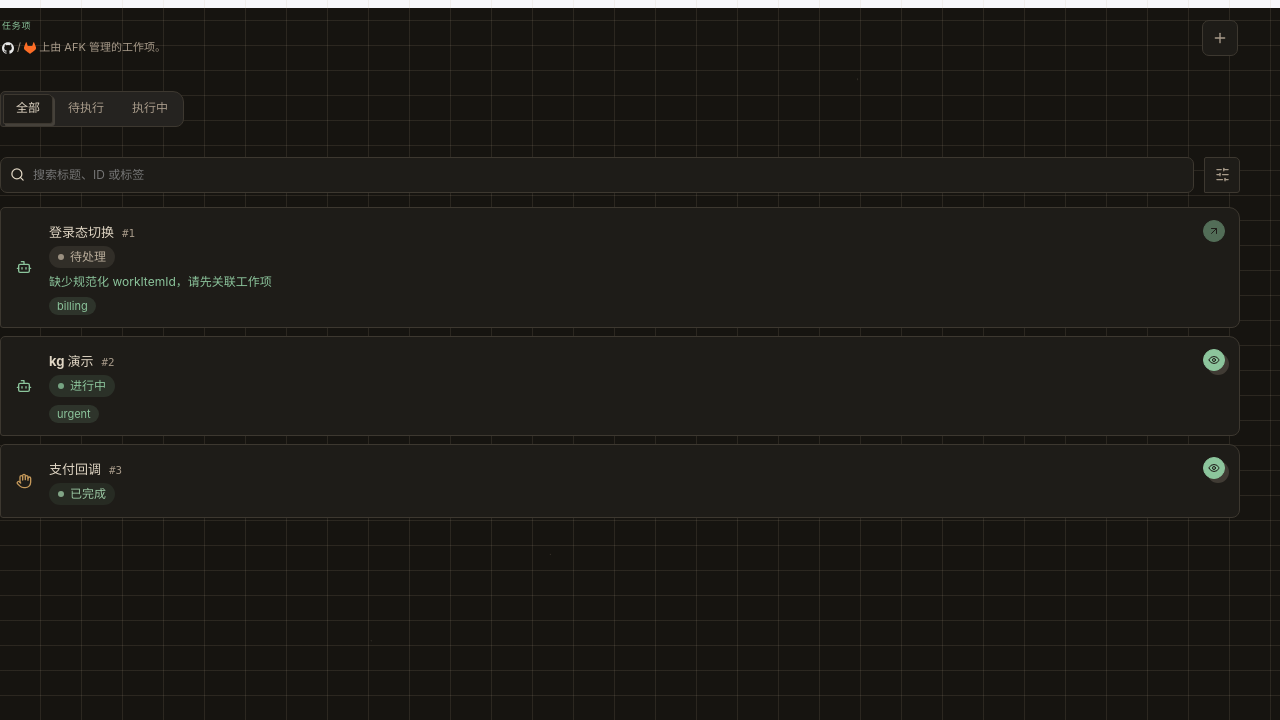
BacklogPage write operations › surfaces create errors inside the modal without closing it
Click the button named "新建 Backlog" at [1220, 38], box [1202,20,1238,56]
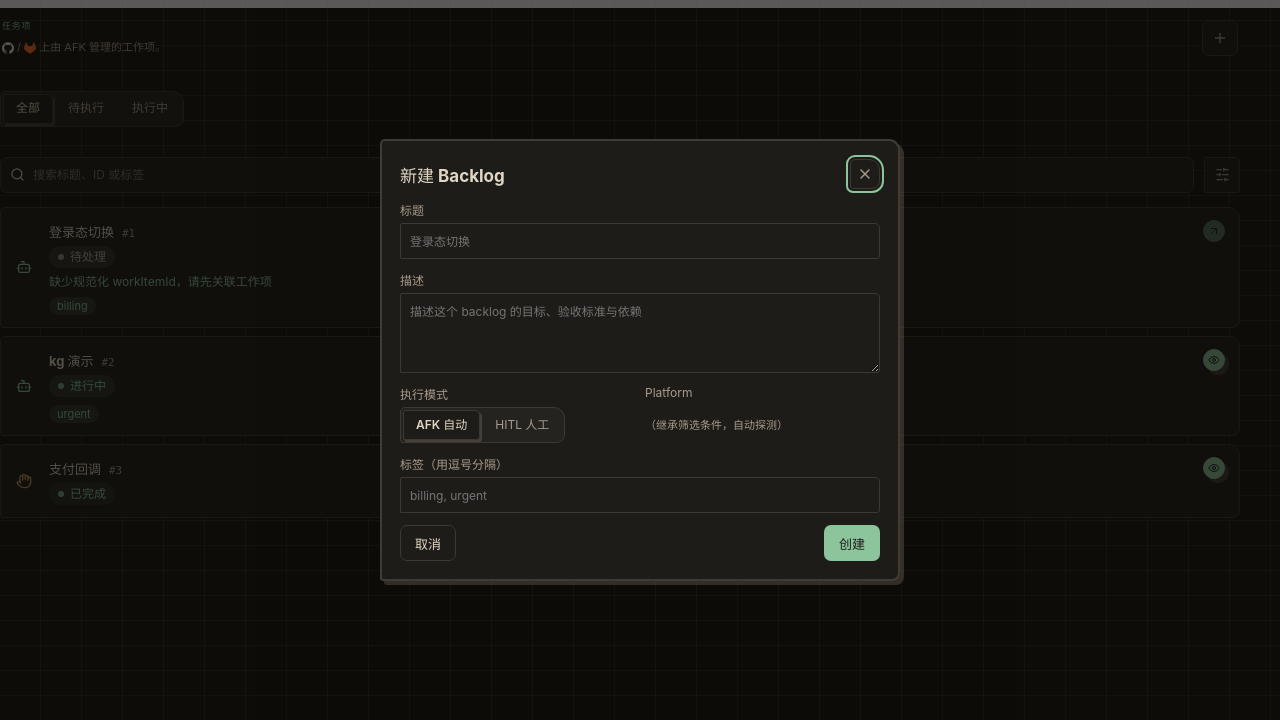
Type "boom" into the field labelled "标题" at [640, 241], box [400,223,880,259]
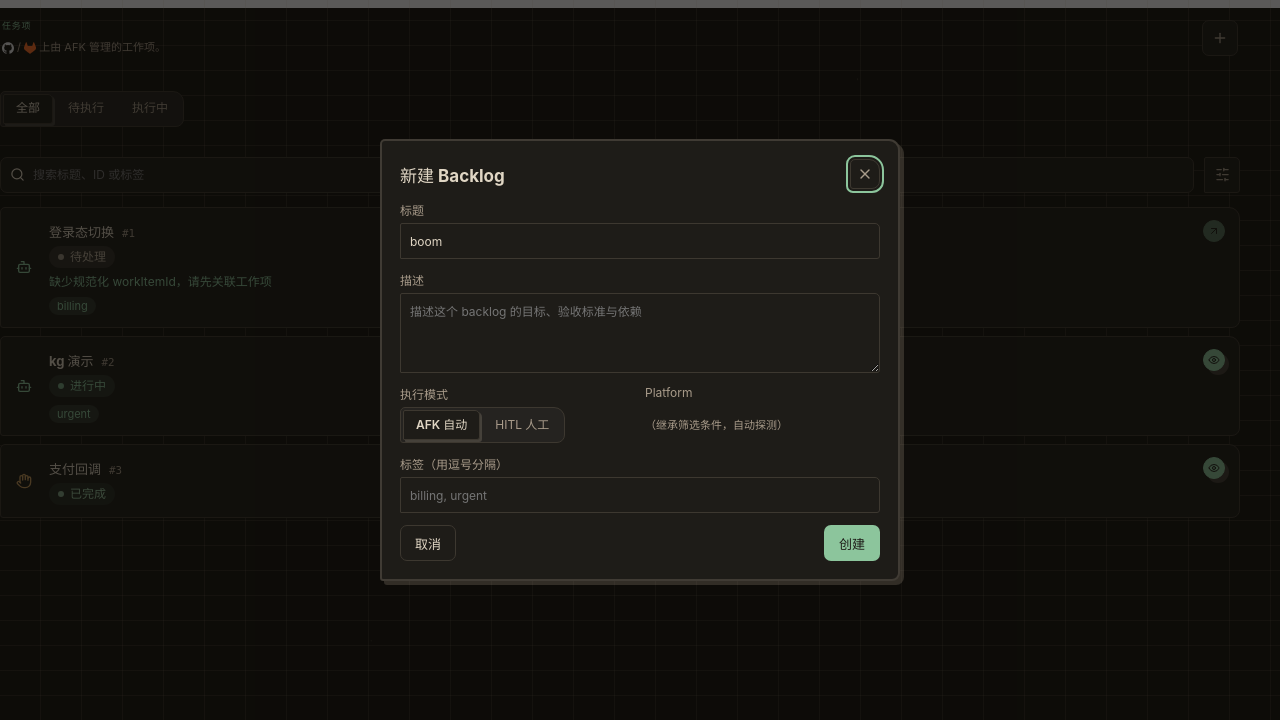
Type "fails" into the text box labelled "描述" at [640, 333], box [400,293,880,373]
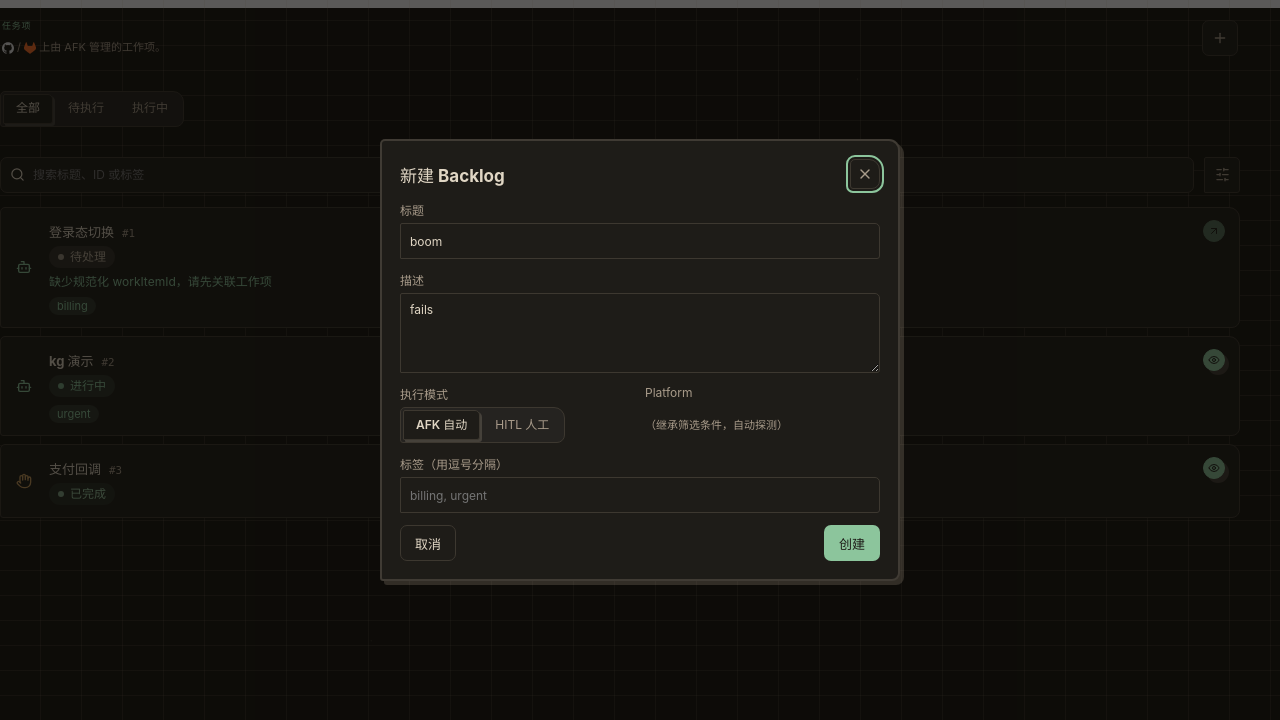
Submit the dialog, box [380,139,900,581]
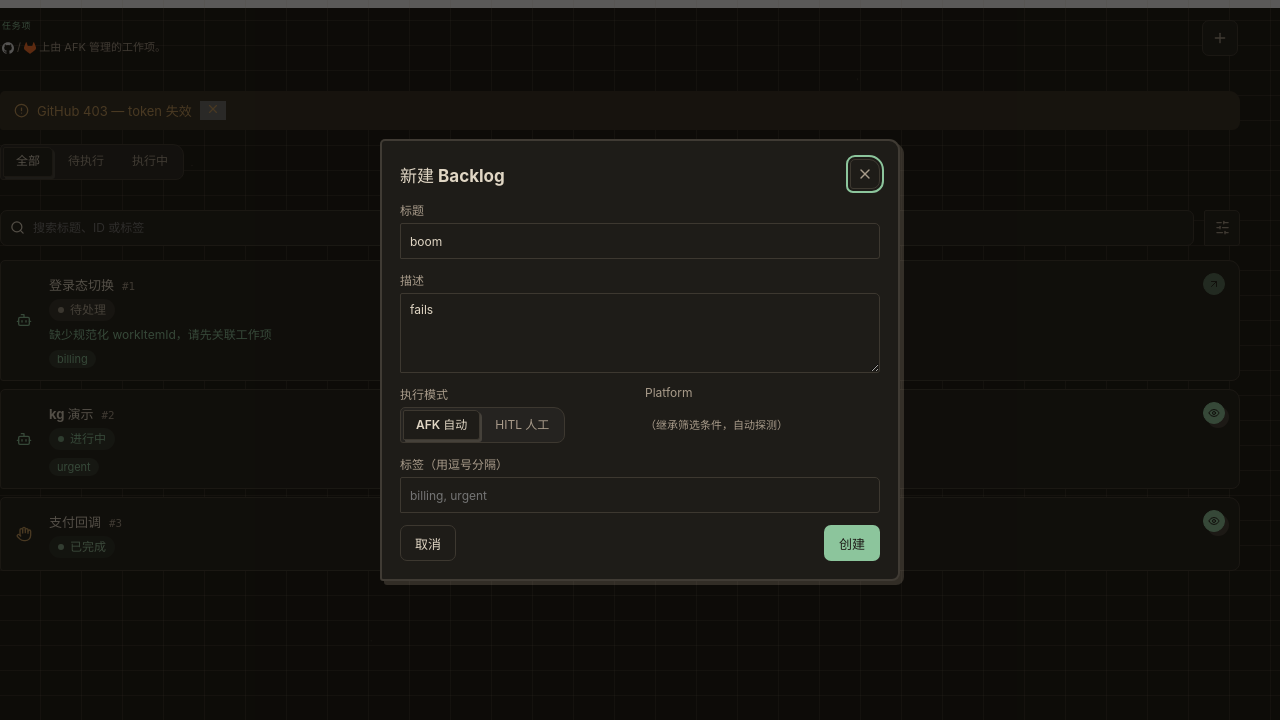
Expected: the message "GitHub 403 — token 失效" is shown, [0,91,1240,130]
